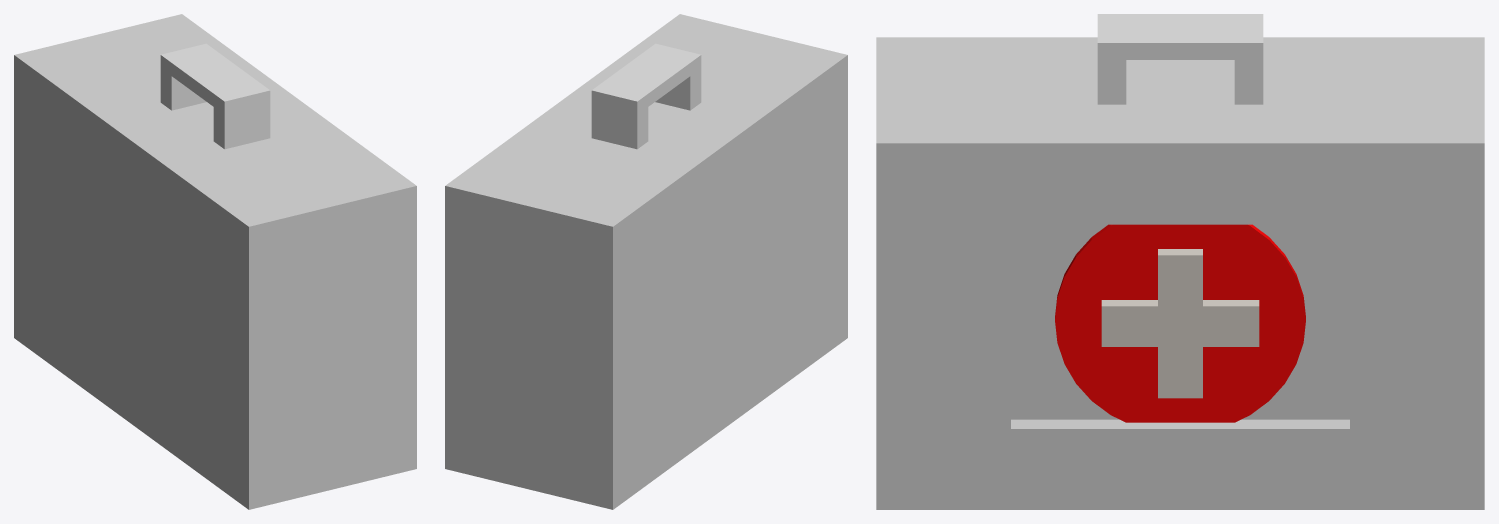
File: heal.fbx
The picture shows the model from 3 angles, left to right: view 1: azimuth 30°, elevation 25°; view 2: azimuth 150°, elevation 25°; view 3: azimuth 270°, elevation 25°; orthographic projection. The views are drawn at different scales.
Parts seen in each view (by area): view 1: Cube, Cube.001; view 2: Cube, Cube.001; view 3: Cube, Cylinder, Cube.003, Cube.001.
Part boxes in pixels (box(x1,y1,x2,y2)): Cube: box(14, 14, 416, 509); Cube.001: box(160, 43, 270, 149); Cube: box(445, 14, 847, 509); Cube.001: box(591, 43, 701, 149); Cube: box(876, 37, 1484, 509); Cylinder: box(1055, 224, 1305, 422); Cube.003: box(1101, 249, 1259, 398); Cube.001: box(1097, 14, 1263, 104).
Size of the model in its own units: 200 by 377 by 484.
